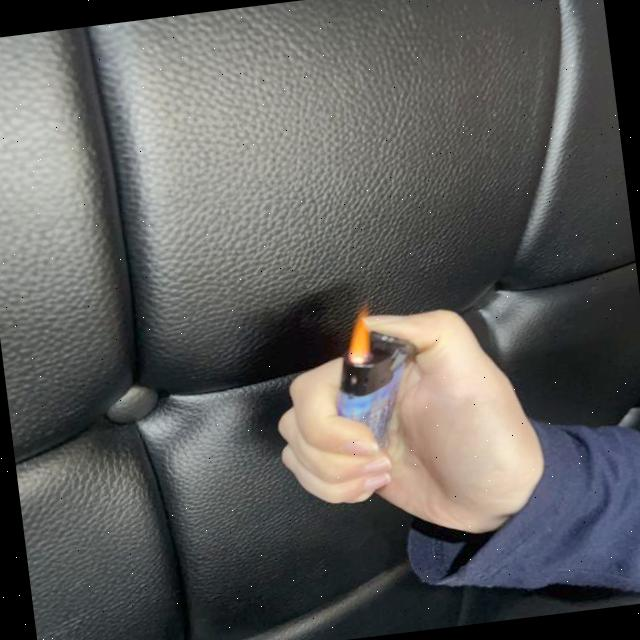fire: (327, 294, 402, 368), (342, 304, 378, 364)
